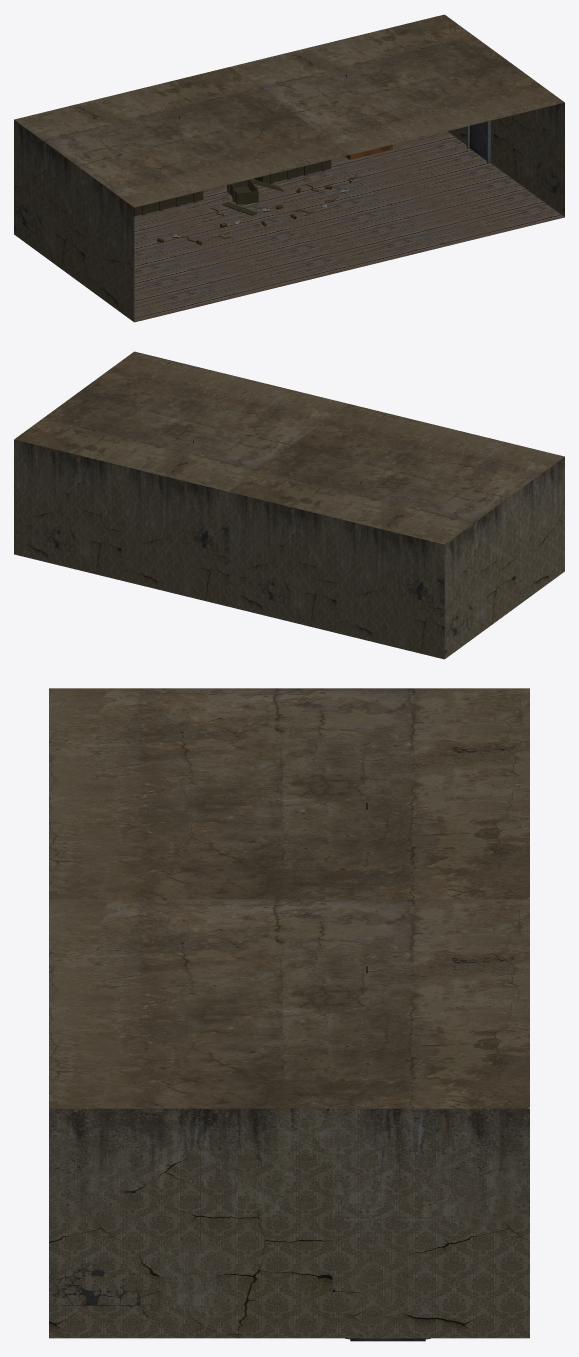
The model's file is ProtivogazRoom.FBX.
3 views of the same model, one above another, from view 1: azimuth 30°, elevation 25°; view 2: azimuth 150°, elevation 25°; view 3: azimuth 270°, elevation 25° (orthographic). The views are drawn at different scales.
Parts seen in each view (by area): view 1: Box01, Box09, Box03; view 2: Box01; view 3: Box01.
Part boxes in pixels (x1,y1,x2,y2): Box01: (14, 14, 564, 322); Box09: (134, 159, 331, 216); Box03: (345, 120, 490, 163); Box01: (14, 351, 564, 659); Box01: (49, 688, 529, 1338).
Size of the model in its own units: 76.22 by 20.25 by 36.79.
Materials: 6 (6 with a texture image).
